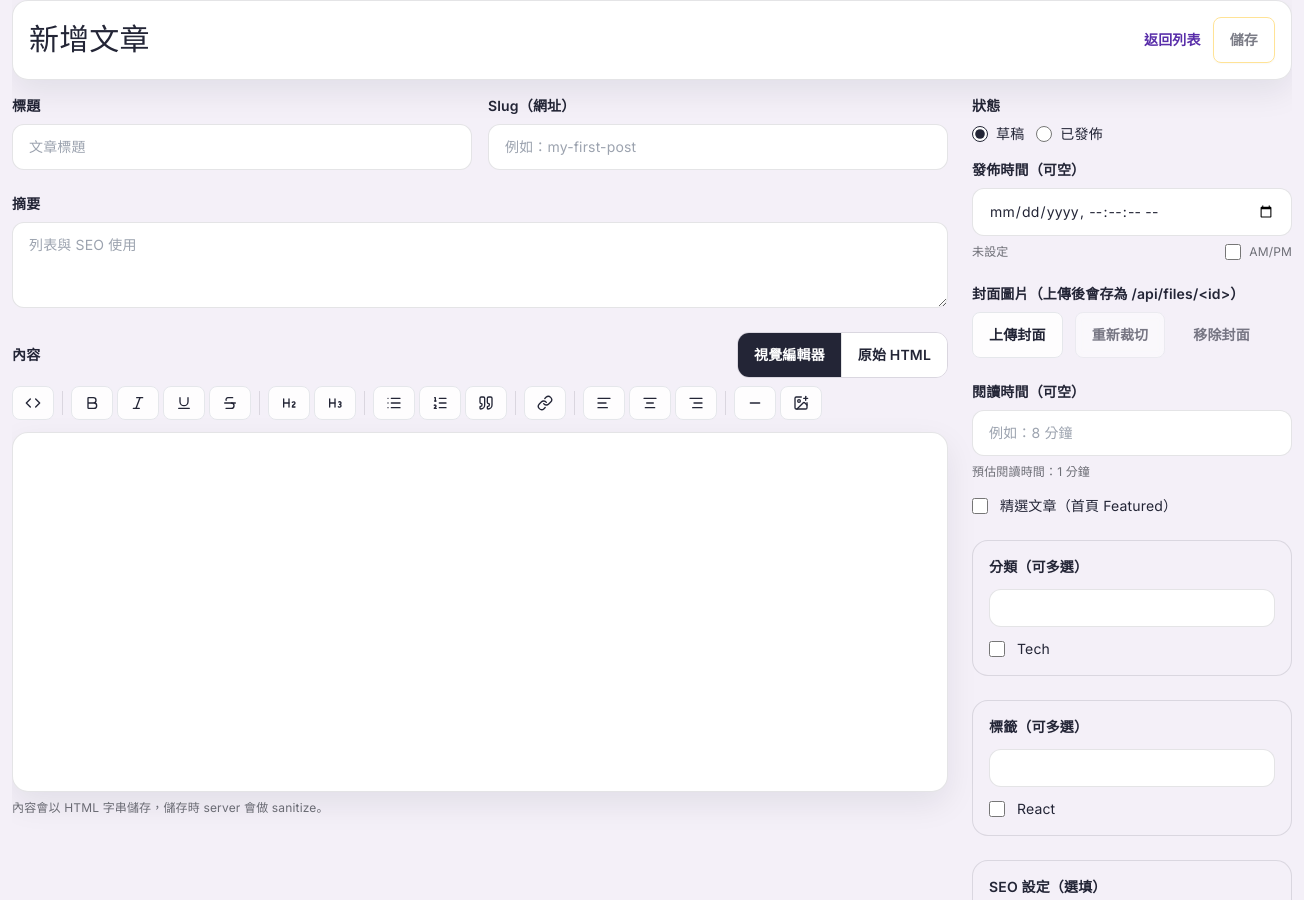
AdminPostForm › raw HTML TOC control (4.4/4.5) › hides the TOC control in visual mode and defaults it off for a new post
This screenshot has width=1304, height=900.
expect the field labelled "顯示系統自動目錄" is not shown: met
Click the radio button labelled "原始 HTML".
click(894, 355)  # box [841, 333, 947, 377]
(page scrolled)
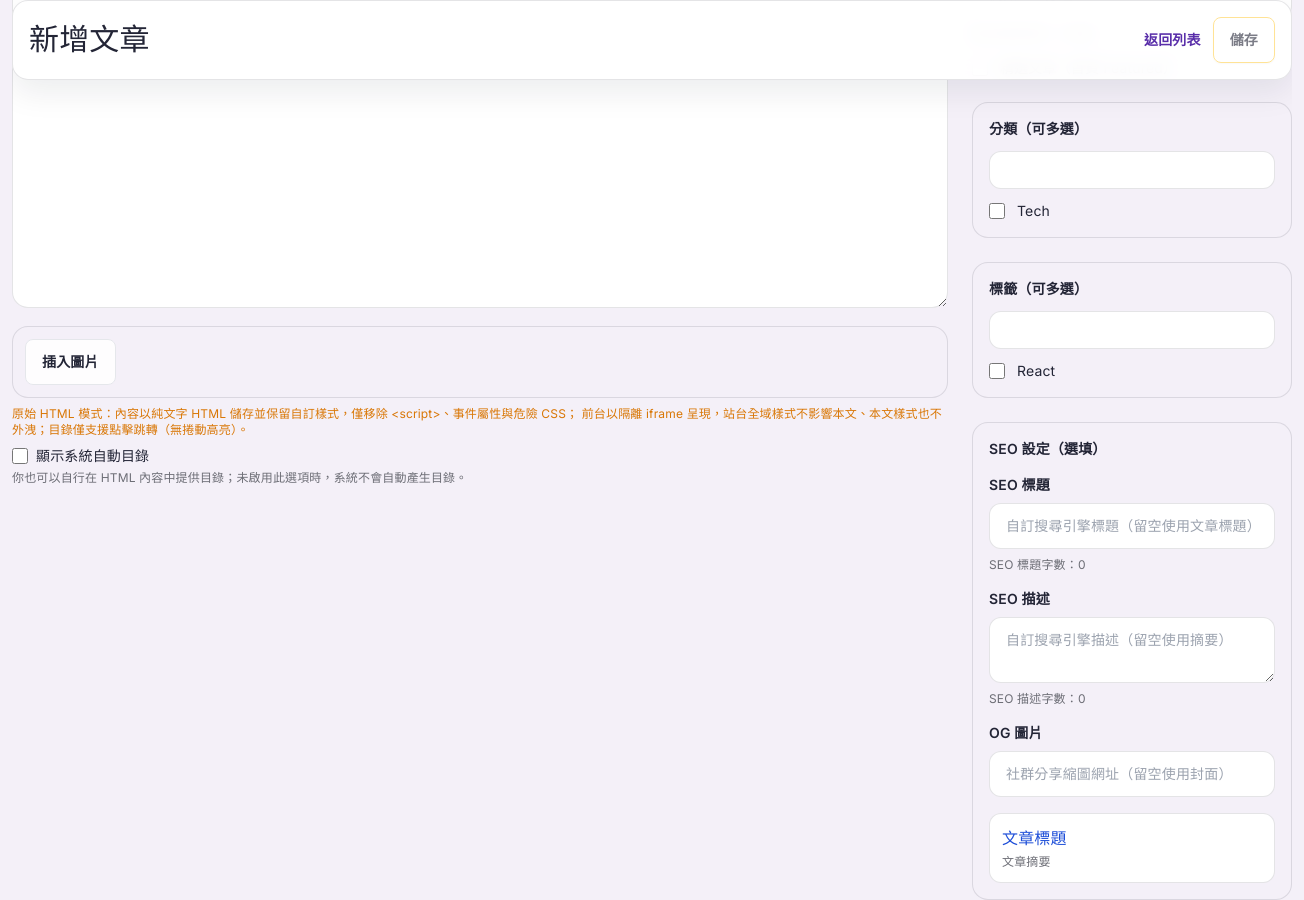
expect the checkbox labelled "顯示系統自動目錄" is not checked: met, box [12, 448, 28, 464]
